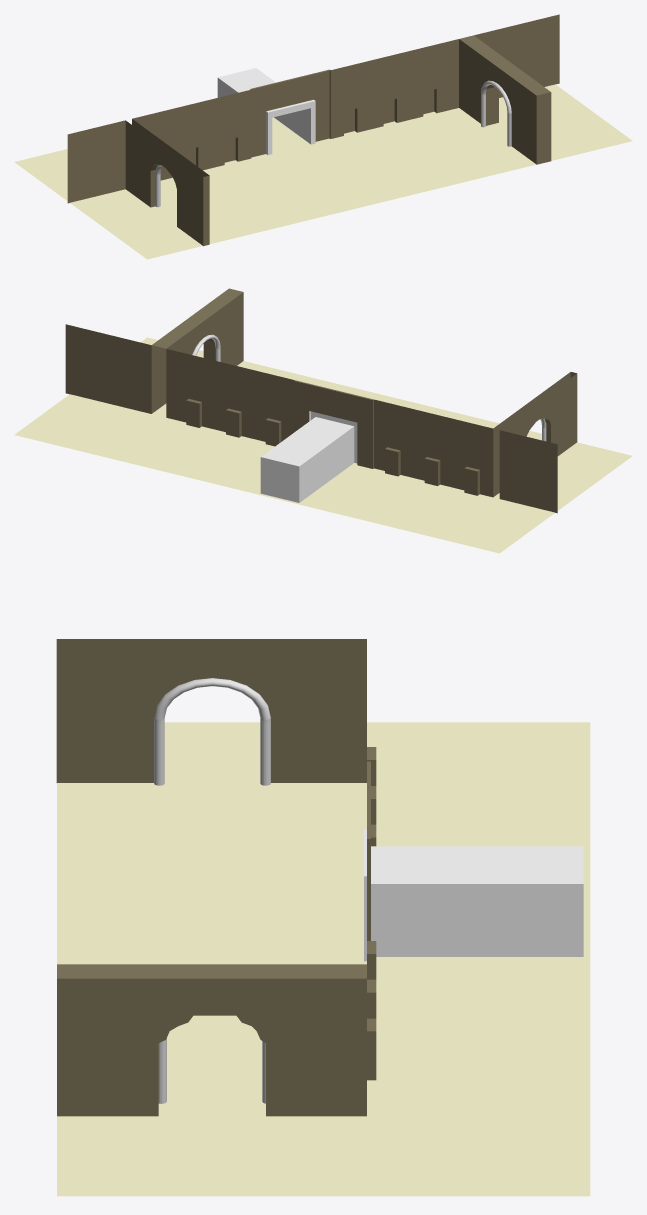
File: Stage.fbx
The picture shows the model from 3 angles, top to bottom: view 1: azimuth 30°, elevation 25°; view 2: azimuth 150°, elevation 25°; view 3: azimuth 270°, elevation 25°; orthographic projection. The views are drawn at different scales.
Visible parts, largest first — view 1: pCube5; view 2: pCube5; view 3: pCube5.
Boxes of the visible parts, x1,y1,x2,y2 form: pCube5: (14,14,632,259); pCube5: (14,288,632,553); pCube5: (56,639,590,1196).
Size of the model in its own units: 88.63 by 11.93 by 41.62.
